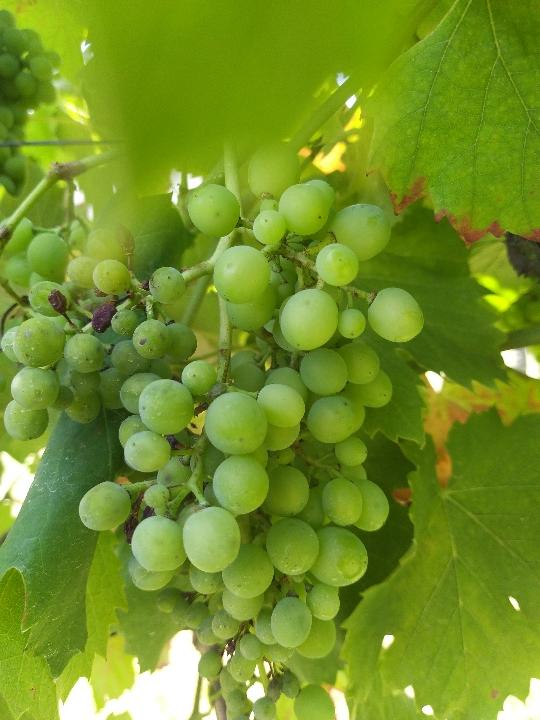grape: (7, 132, 431, 668)
